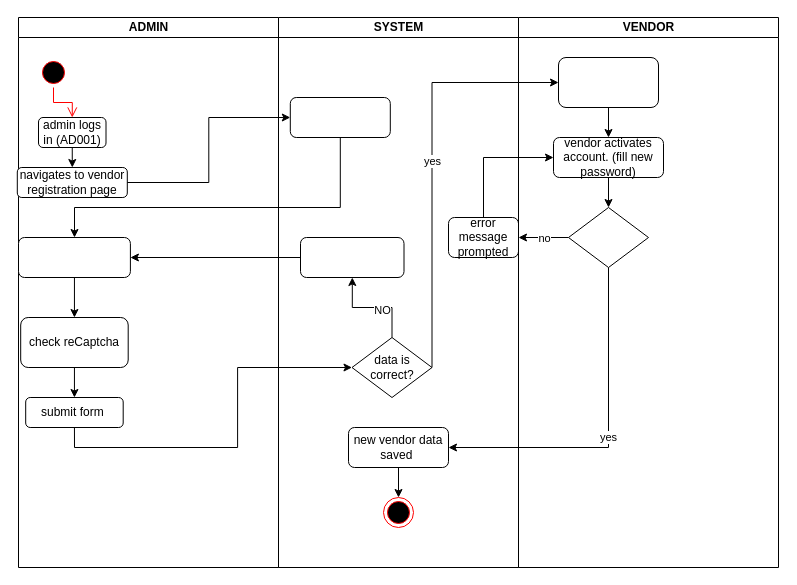
Some shapes in this 797 by 585 pixel diagram are drawn without their labels. The shapes that lost their labels are listed below. From the top down, each one's centre as x and y in pixels, then its label:
At point 608,82: "verification email sent to vendor for acc activation".
At point 339,117: "prompt vendor registration form".
At point 74,257: "fill required fields. (company name/description)".
At point 352,257: "show error message".
At point 608,237: "data validated?".
